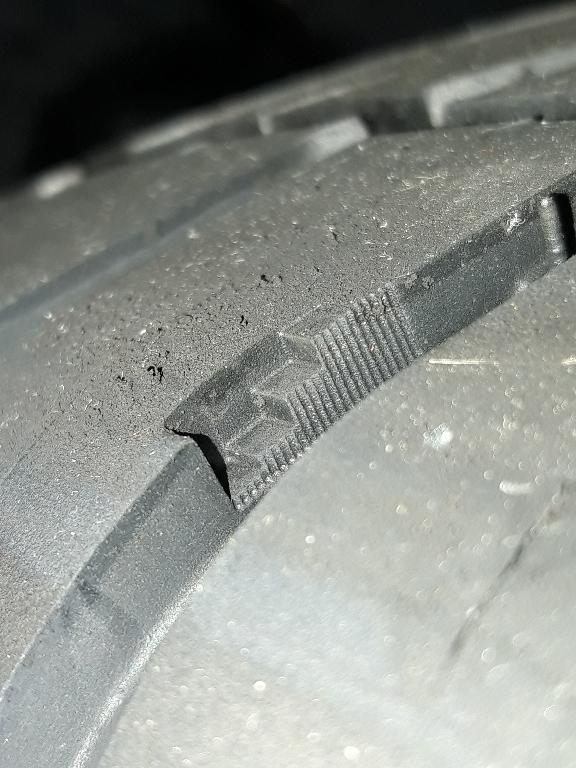temoin:75: (153, 292, 392, 530)
